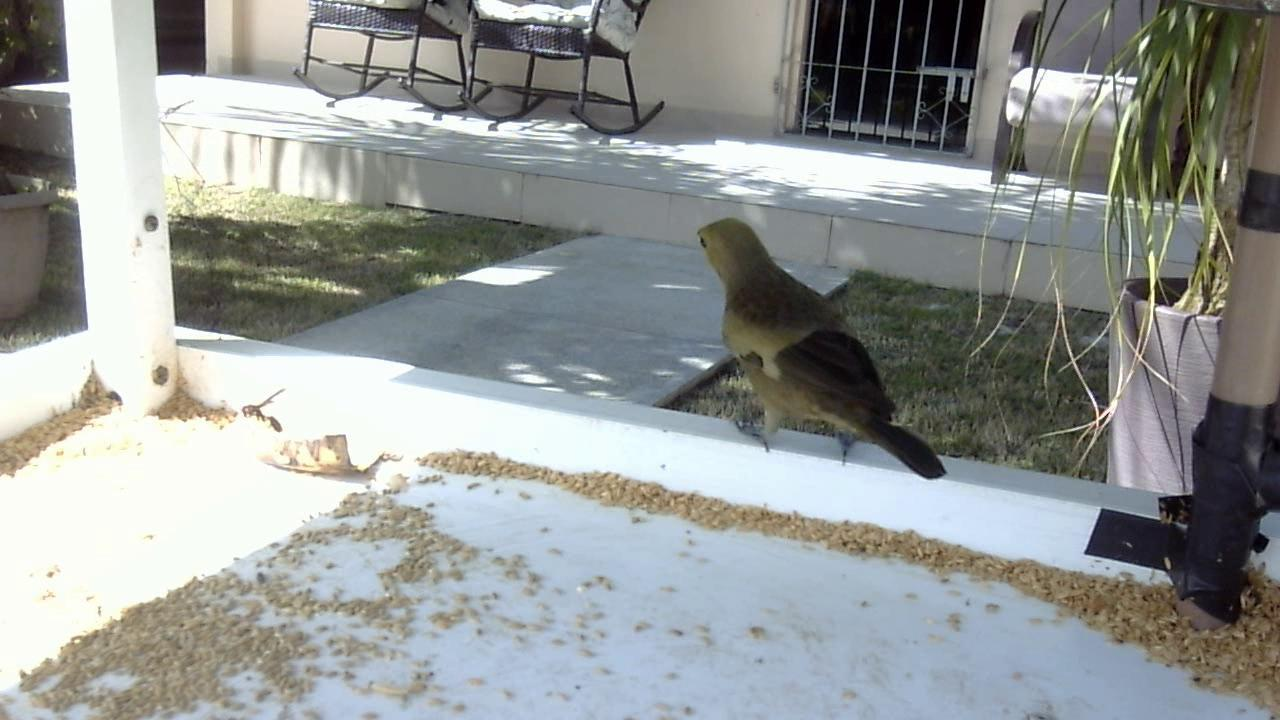sanhaco_do_coqueiro: (654, 207, 956, 485)
